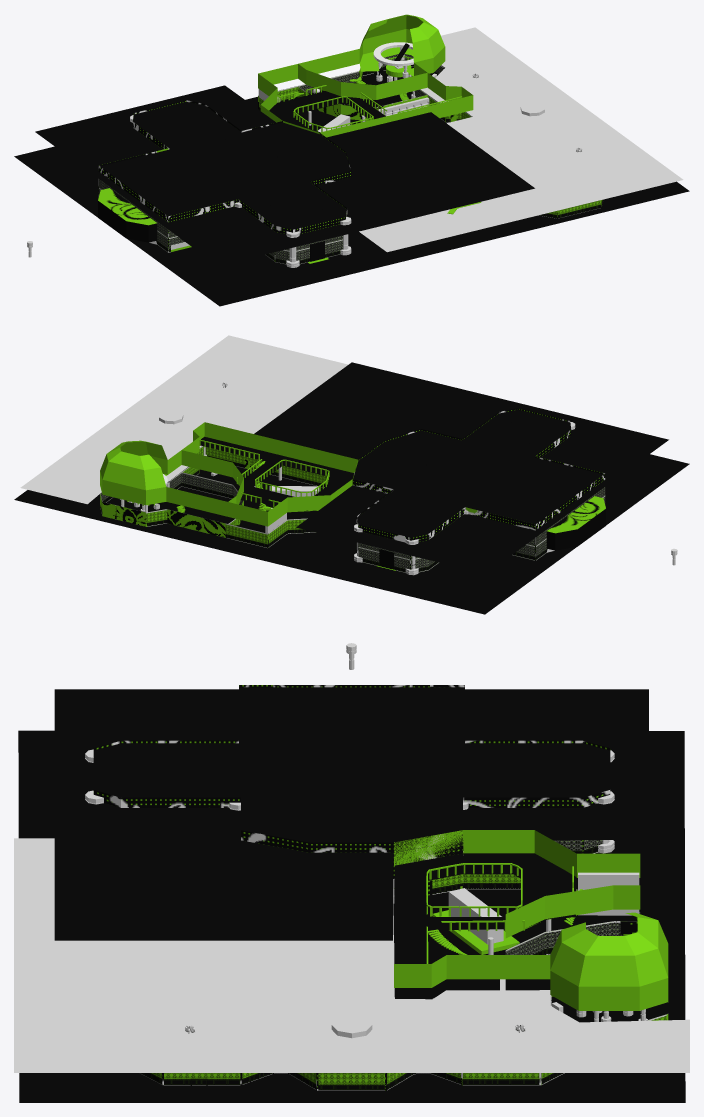
The model's file is manor_updated walls.fbx.
3 renders of one model, top to bottom at view 1: azimuth 30°, elevation 25°; view 2: azimuth 150°, elevation 25°; view 3: azimuth 270°, elevation 25°, orthographic. The views are drawn at different scales.
Parts seen in each view (by area): view 1: ceiling 2, ceiling, ceiling.002, floor, observatory dome, walls, Plane.002, entryway wall.002, observatory wall, railing, pillar.016, Cylinder.027 (+2 smaller); view 2: ceiling 2, ceiling.002, floor, ceiling, observatory dome, walls, Plane.002, oddities, entryway wall.002, observatory wall, railing; view 3: ceiling, ceiling 2, ceiling.002, floor, observatory dome, walls, Plane.002, entryway wall.001, oddities, observatory wall, triceratops, Cube.027 (+4 smaller).
Boxes of the visible parts, left/top/right/bottom form: ceiling 2: left=35, top=85, right=534, bottom=265; ceiling: left=359, top=27, right=683, bottom=252; ceiling.002: left=100, top=101, right=350, bottom=229; floor: left=14, top=65, right=689, bottom=306; observatory dome: left=258, top=14, right=473, bottom=137; walls: left=98, top=69, right=601, bottom=254; Plane.002: left=269, top=91, right=385, bottom=132; entryway wall.002: left=99, top=179, right=343, bottom=264; observatory wall: left=298, top=54, right=443, bottom=109; railing: left=293, top=96, right=373, bottom=131; pillar.016: left=130, top=115, right=351, bottom=267; Cylinder.027: left=373, top=42, right=413, bottom=66; ceiling 2: left=254, top=362, right=668, bottom=573; ceiling.002: left=353, top=409, right=603, bottom=537; floor: left=14, top=454, right=689, bottom=614; ceiling: left=20, top=335, right=347, bottom=504; observatory dome: left=100, top=422, right=358, bottom=526; walls: left=100, top=408, right=605, bottom=569; Plane.002: left=200, top=436, right=353, bottom=510; oddities: left=182, top=446, right=327, bottom=548; entryway wall.002: left=356, top=487, right=605, bottom=572; observatory wall: left=100, top=472, right=242, bottom=526; railing: left=255, top=459, right=329, bottom=496; ceiling: left=14, top=838, right=689, bottom=1072; ceiling 2: left=54, top=689, right=648, bottom=940; ceiling.002: left=93, top=687, right=610, bottom=842; floor: left=18, top=730, right=685, bottom=1102; observatory dome: left=394, top=830, right=668, bottom=1010; walls: left=93, top=685, right=668, bottom=1090; Plane.002: left=394, top=853, right=575, bottom=963; entryway wall.001: left=140, top=1073, right=564, bottom=1090; oddities: left=394, top=874, right=640, bottom=942; observatory wall: left=505, top=921, right=668, bottom=1020; triceratops: left=448, top=888, right=503, bottom=944; Cube.027: left=578, top=872, right=639, bottom=915.
Bounding box in the file's own units: 11918 × 1310 × 7681.
